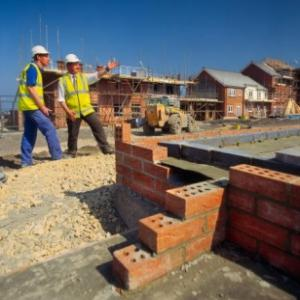white: (32, 45, 50, 67), (66, 54, 81, 74)
